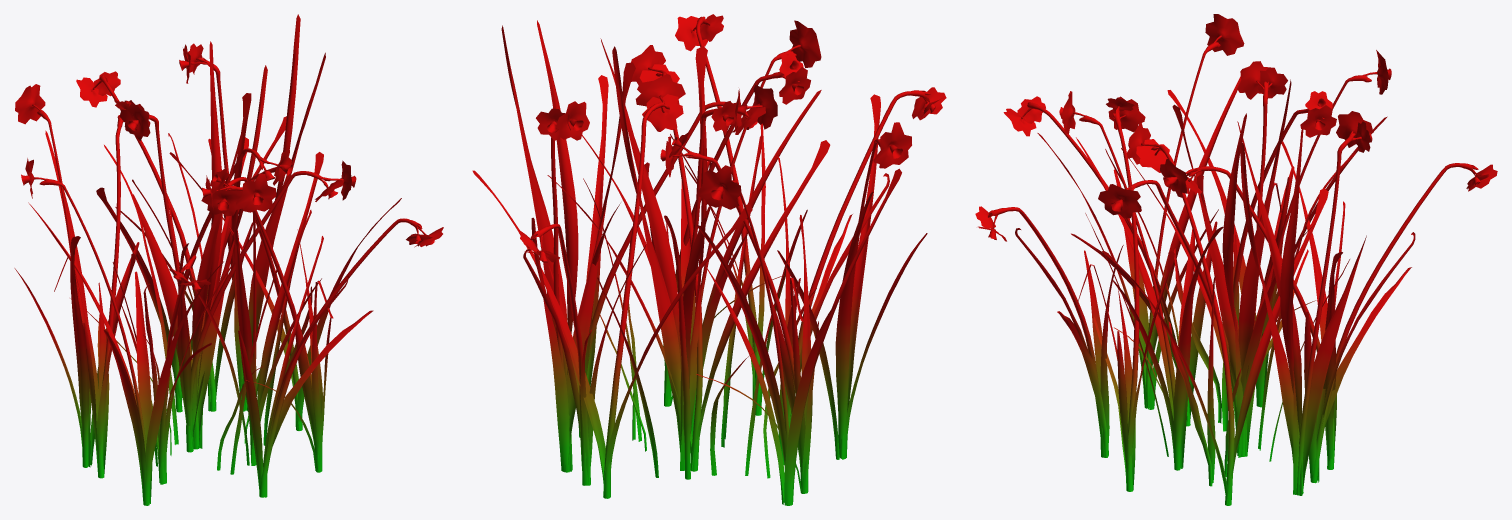
Rendered from Rush Daffodil_LOD0_Var10_wftgfjaia.fbx.
3 views of the same model, side by side, from view 1: azimuth 30°, elevation 25°; view 2: azimuth 150°, elevation 25°; view 3: azimuth 270°, elevation 25° (orthographic). The views are drawn at different scales.
Visible parts, largest first — view 1: _ii3a_var10_LOD0; view 2: _ii3a_var10_LOD0; view 3: _ii3a_var10_LOD0.
Boxes of the visible parts, <box> form: _ii3a_var10_LOD0: <box>14,14,443,505</box>; _ii3a_var10_LOD0: <box>472,14,946,505</box>; _ii3a_var10_LOD0: <box>975,14,1497,505</box>.
Bounding box in the file's own units: 35.2 × 39.64 × 47.27.
